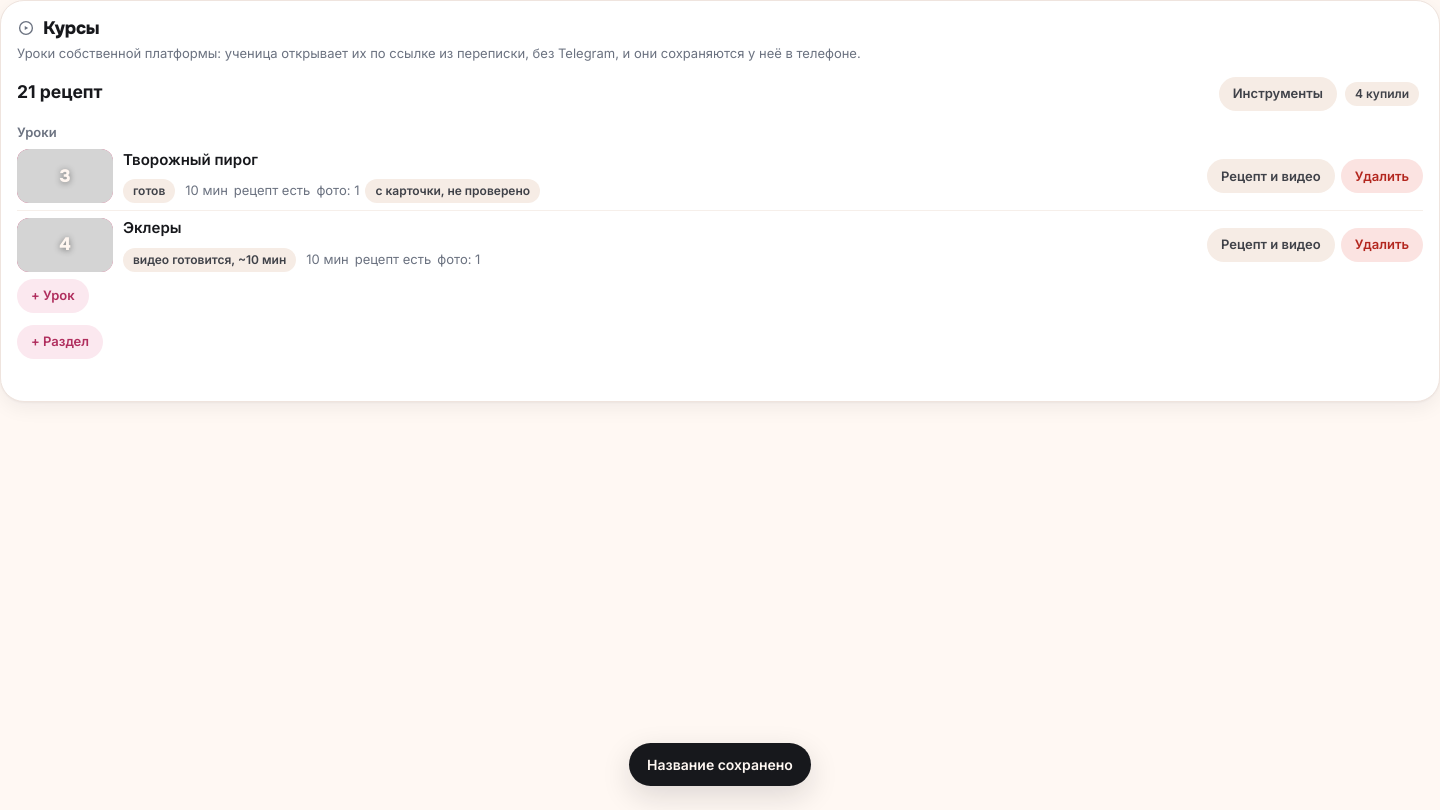
Test: CoursesPage — уроки › «Удалить» — без окна «Точно?»: DELETE сразу, тост «Отменить» зовёт restore
expect the button "Творожный пирог" is shown: met, box left=123, top=146, right=1197, bottom=173
Click the button "Удалить" in the row of "с карточки, не проверено": click(1382, 176) left=1341, top=159, right=1423, bottom=193
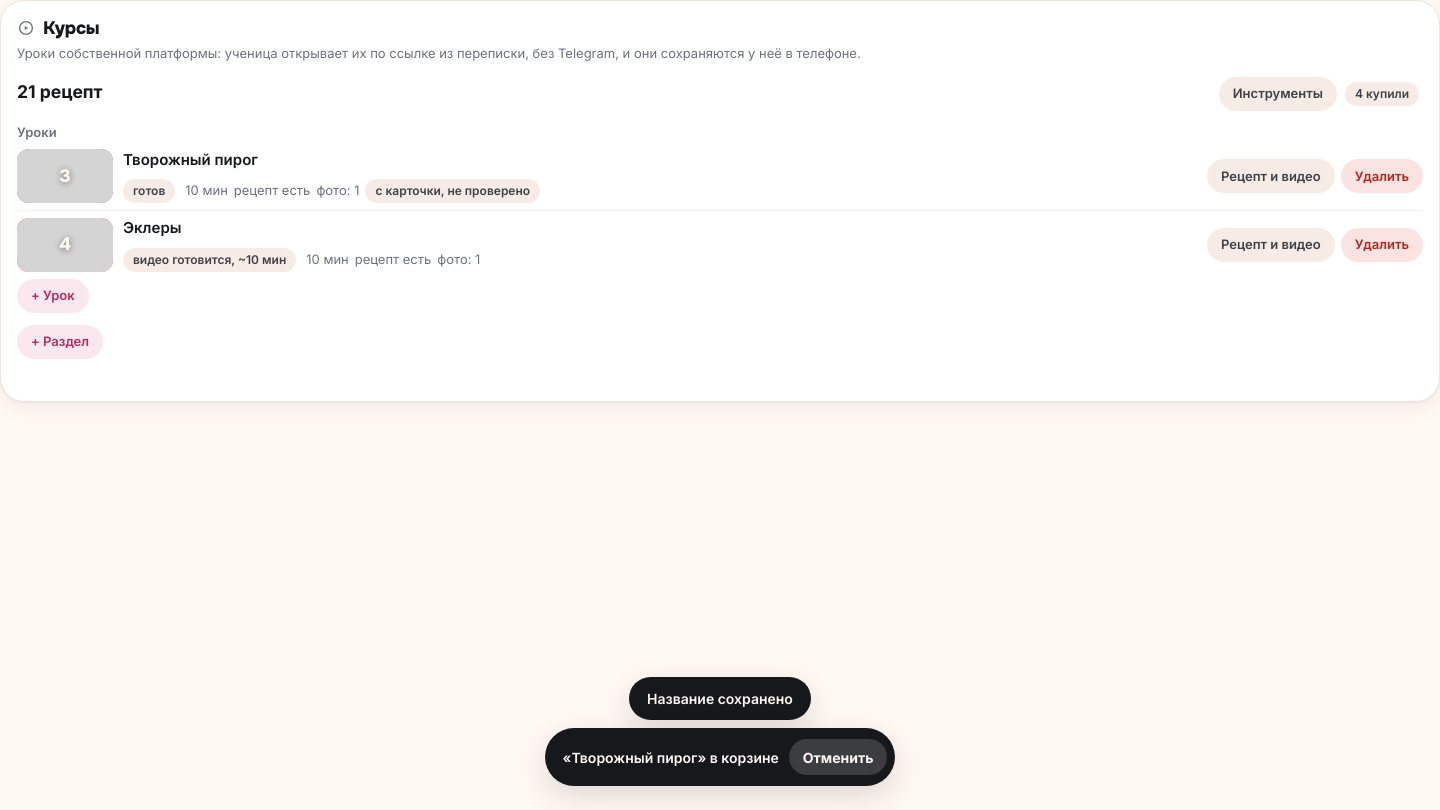
expect the text "«Творожный пирог» в корзине" is shown: met, box left=562, top=746, right=779, bottom=768
Click the button "Отменить": click(838, 757) left=789, top=739, right=888, bottom=775
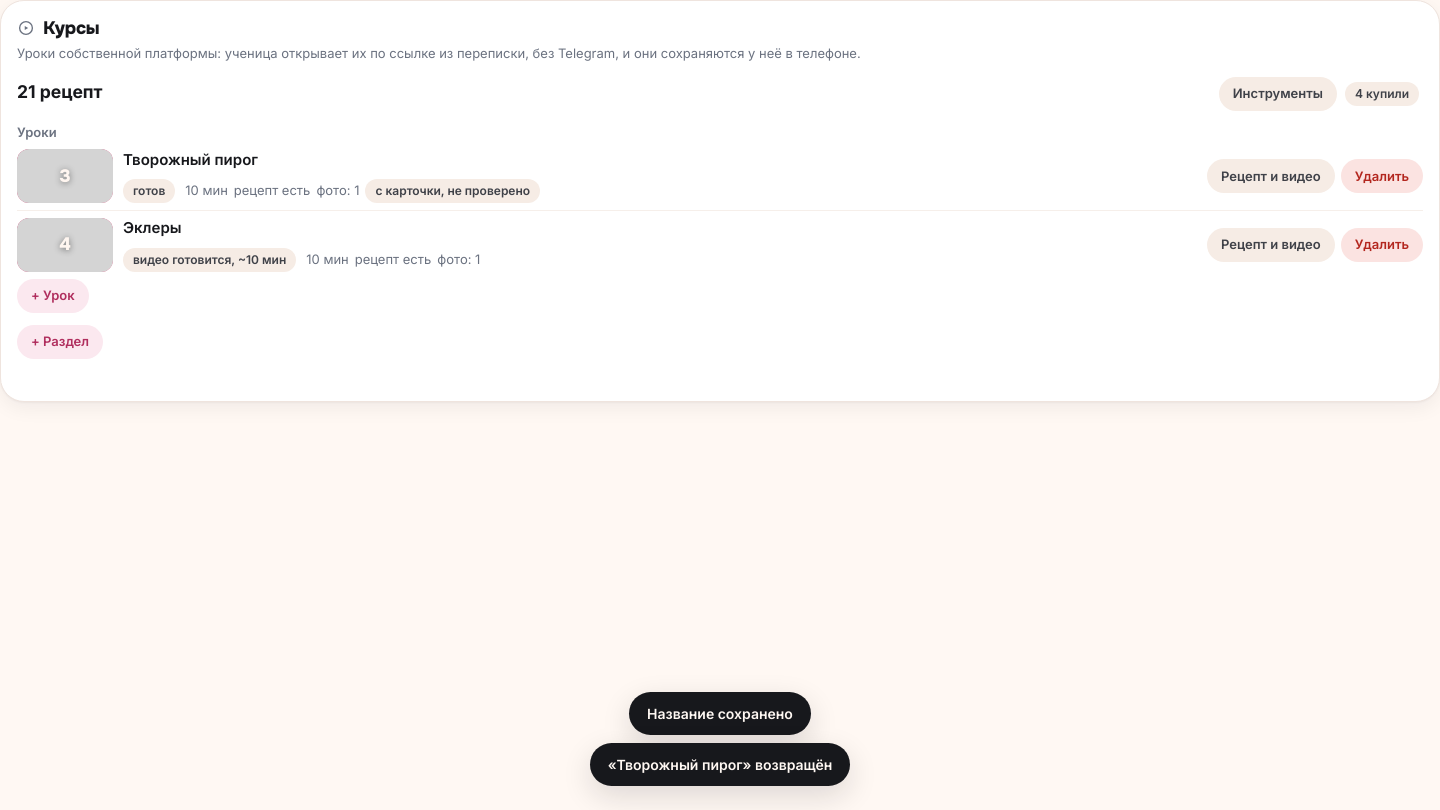
expect the text "«Творожный пирог» возвращён" is shown: met, box left=608, top=756, right=832, bottom=773
